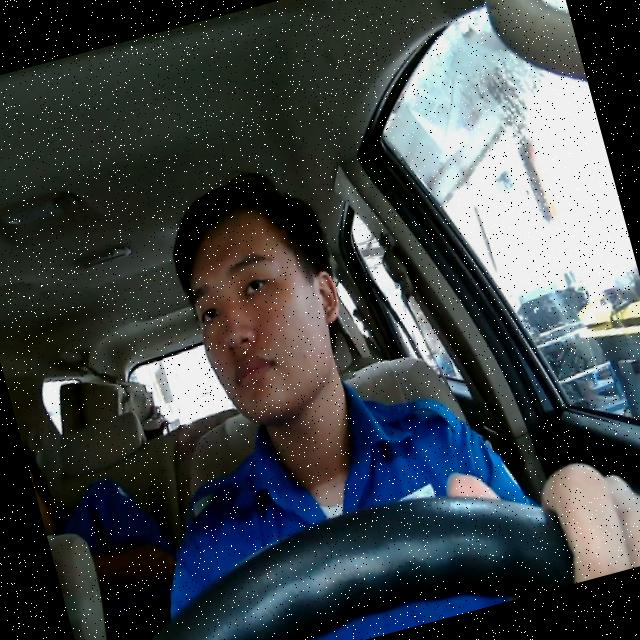seeing_left: (169, 190, 365, 434)
